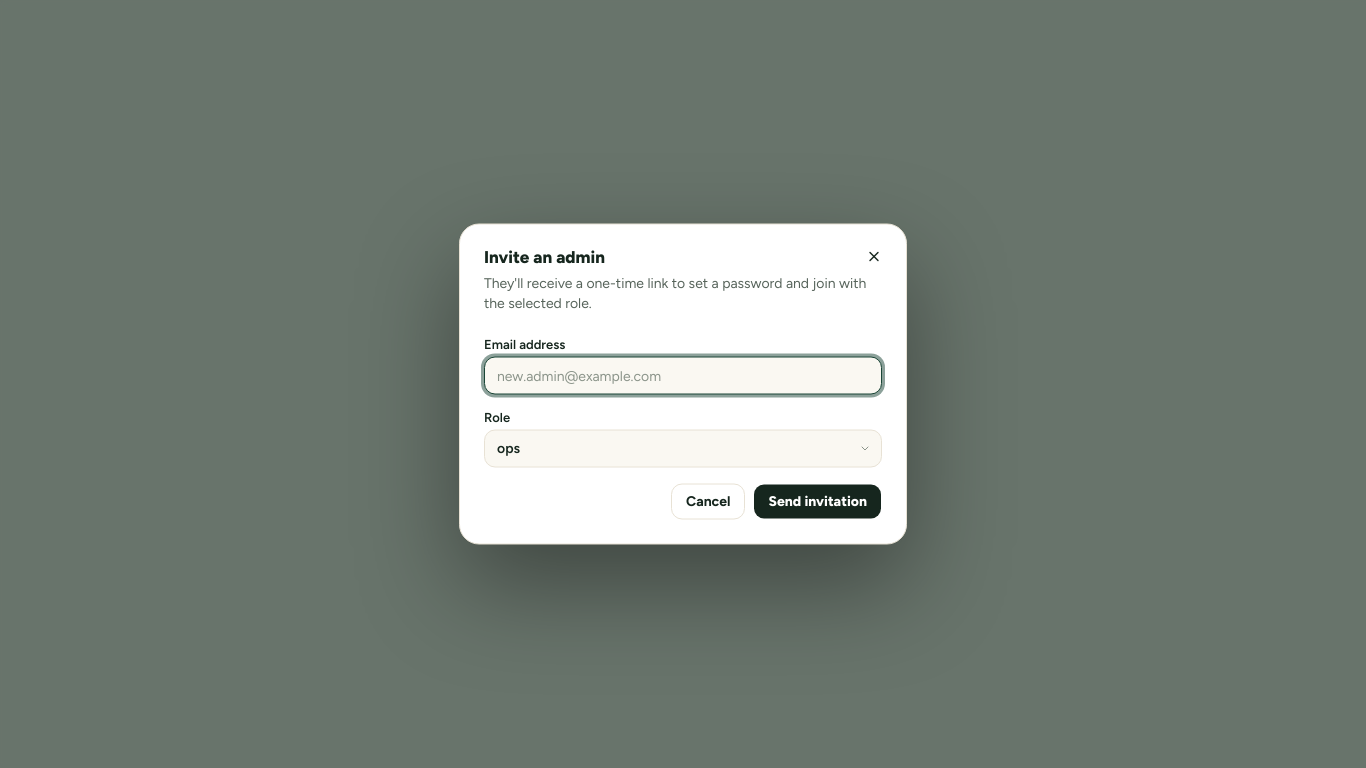
InviteAdminDialog › surfaces a server error
The image size is (1366, 768).
Type "dup@example.com" into the field labelled "Email address" at (683, 376), box [484,356,882,394]
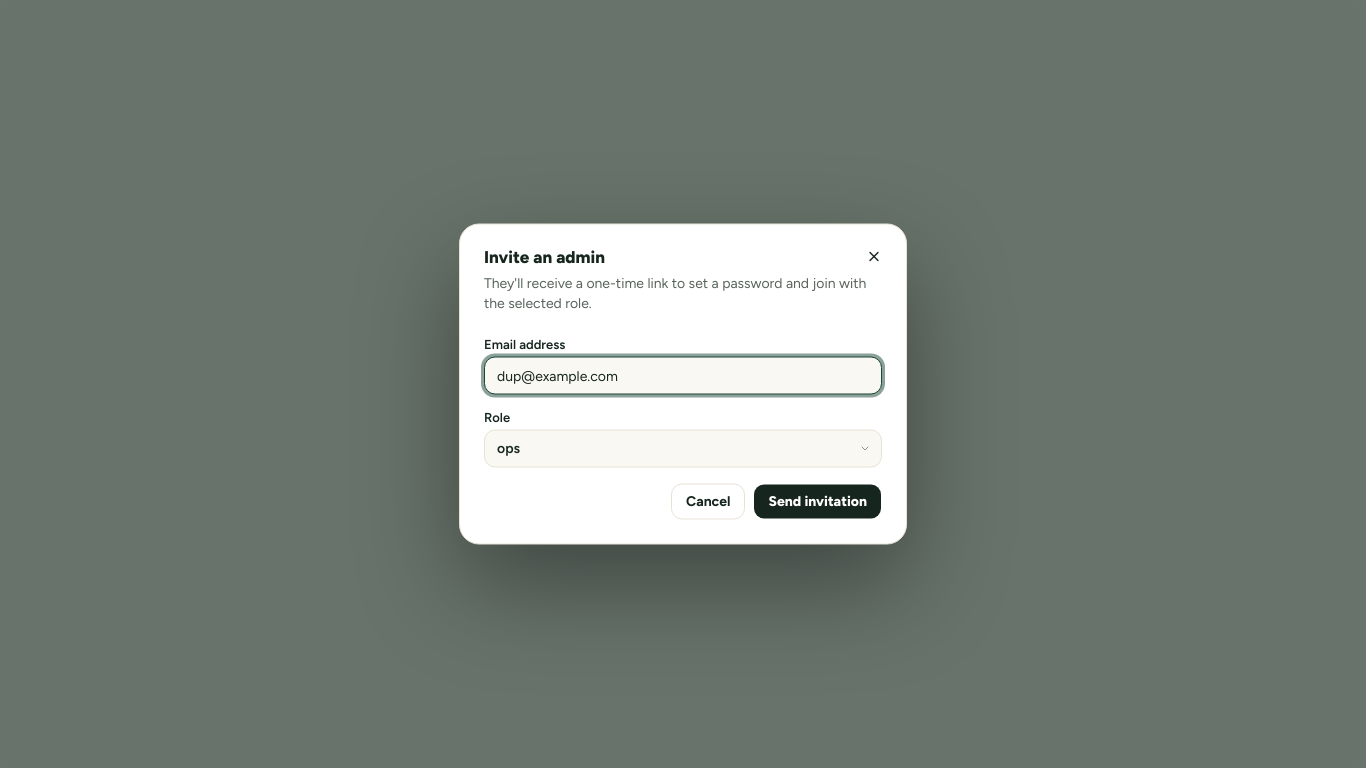
Click the button "Send invitation" at (818, 502), box [754,484,882,520]
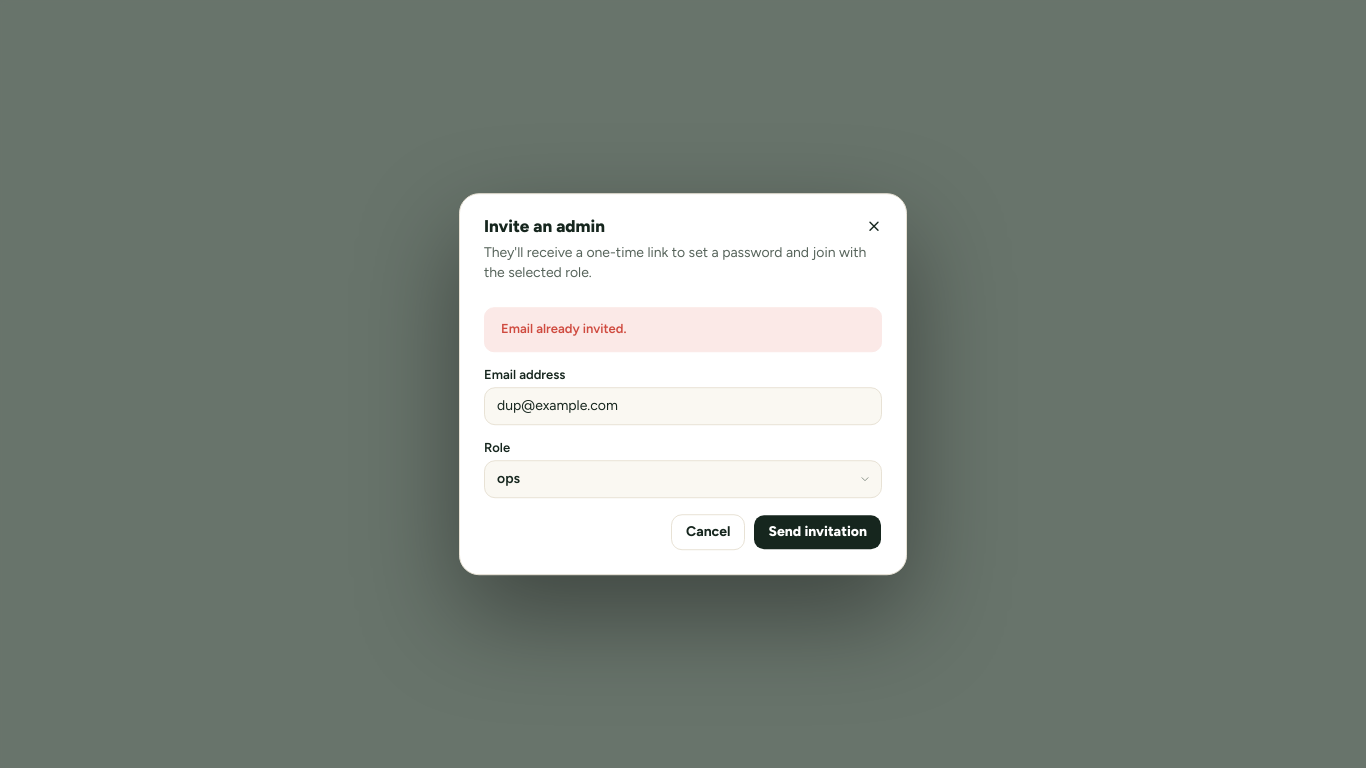
Expected: the text "Email already invited." is shown, [484,307,882,352]
